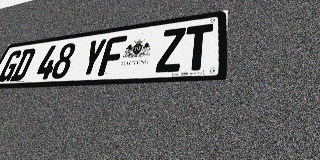4: (34, 44, 62, 80)
8: (49, 42, 78, 79)
D: (9, 48, 37, 81)
F: (97, 35, 127, 76)
G: (0, 50, 24, 82)
T: (182, 23, 213, 71)
Y: (78, 38, 108, 77)
Z: (155, 27, 186, 73)
